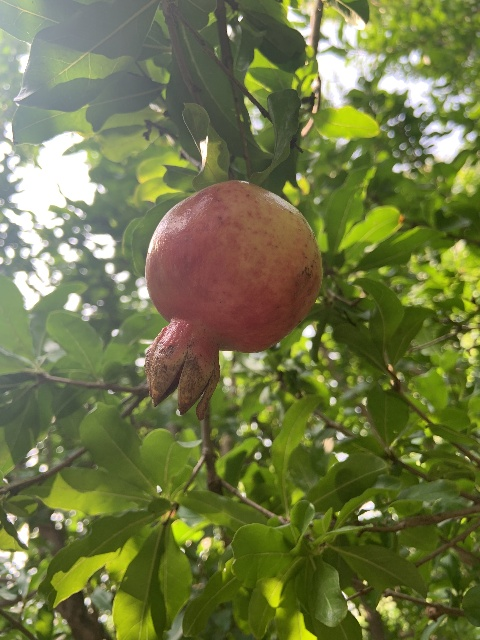ripe: (143, 181, 323, 420)
